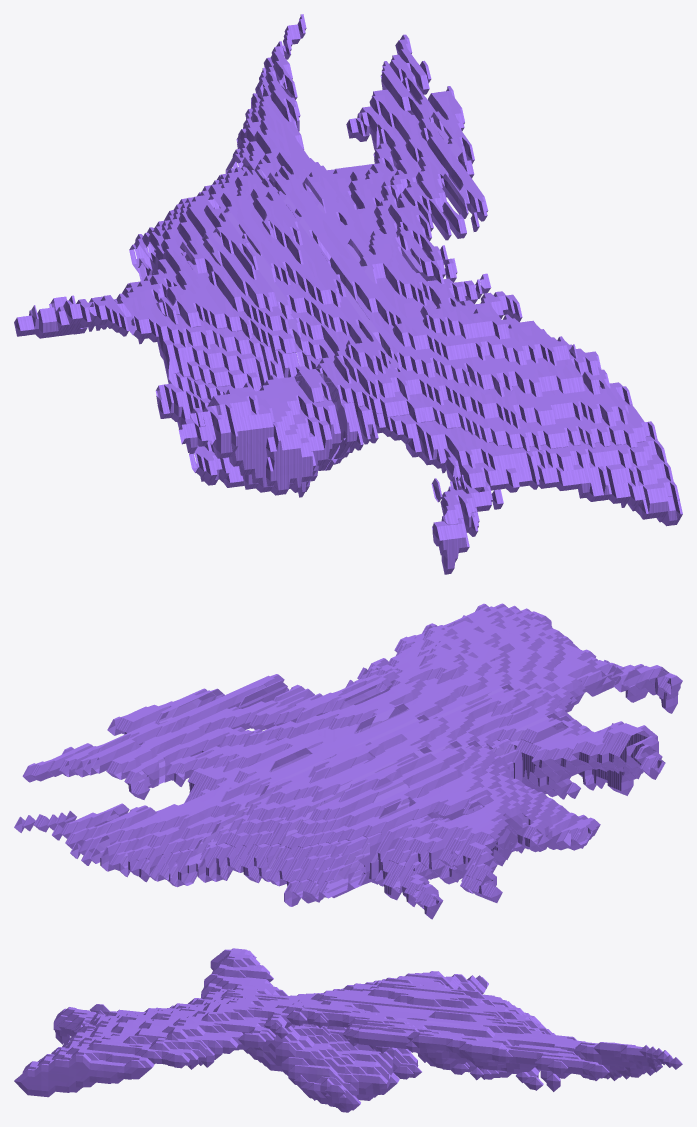
File: SVV_BWM-VR03.gltf
3 renders of one model, top to bottom at view 1: azimuth 30°, elevation 25°; view 2: azimuth 150°, elevation 25°; view 3: azimuth 270°, elevation 25°, orthographic. The views are drawn at different scales.
Parts seen in each view (by area): view 1: BWM-VR03; view 2: BWM-VR03; view 3: BWM-VR03.
Boxes of the visible parts, <box> form: BWM-VR03: <box>14,14,682,574</box>; BWM-VR03: <box>14,603,682,919</box>; BWM-VR03: <box>14,948,682,1112</box>.
Size of the model in its own units: 35208 by 14503 by 62237.
